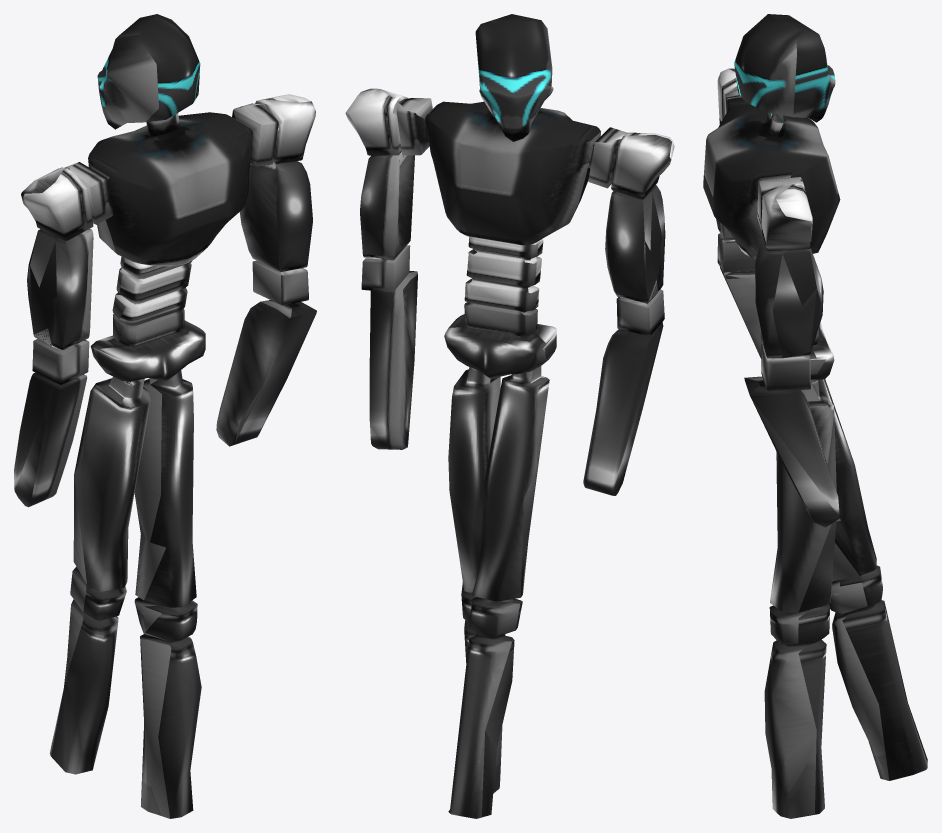
File: frame_038.obj
3 renders of one model, left to right at view 1: azimuth 30°, elevation 25°; view 2: azimuth 150°, elevation 25°; view 3: azimuth 270°, elevation 25°, orthographic. The views are drawn at different scales.
Visible parts, largest first — view 1: Cyborg, PiernaD, PierzaI, AntebrazoD, Cabeza, BrazoD; view 2: Cyborg, PierzaI, AntebrazoD, PiernaD, Cabeza, BrazoD; view 3: PiernaD, Cyborg, PierzaI, AntebrazoD, Cabeza, BrazoD.
Boxes of the visible parts, x1,y1,x2,y2 form: Cyborg: (14,103,279,507); PiernaD: (134,370,201,818); PierzaI: (49,376,150,774); AntebrazoD: (239,94,315,305); Cabeza: (97,14,200,129); BrazoD: (216,300,316,446); Cyborg: (395,98,674,495); PierzaI: (448,366,549,818); AntebrazoD: (345,88,414,292); PiernaD: (448,367,502,793); Cabeza: (475,14,553,141); BrazoD: (369,271,417,449); PiernaD: (764,380,836,818); Cyborg: (703,68,840,380); PierzaI: (818,379,927,780); AntebrazoD: (755,184,823,391); Cabeza: (734,14,835,122); BrazoD: (744,376,839,527).
Size of the model in its own units: 10.03 by 24.74 by 6.49.
Materials: 1 (1 with a texture image).
